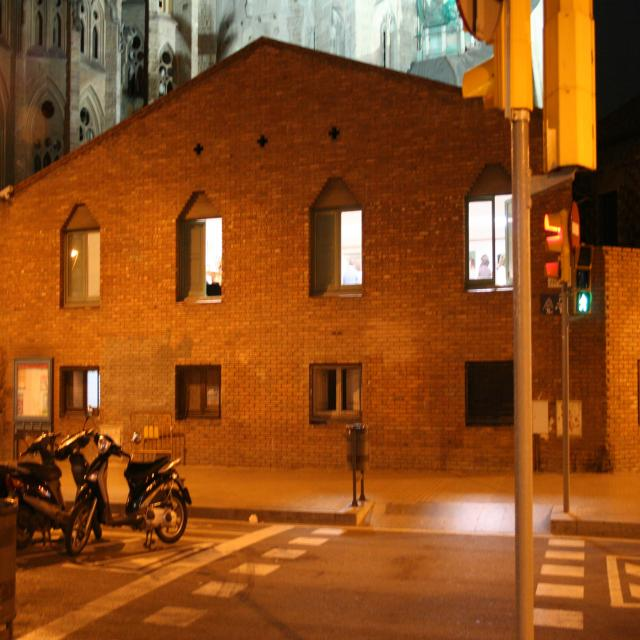Motorbike: (63, 436, 193, 554), (0, 423, 69, 564)
